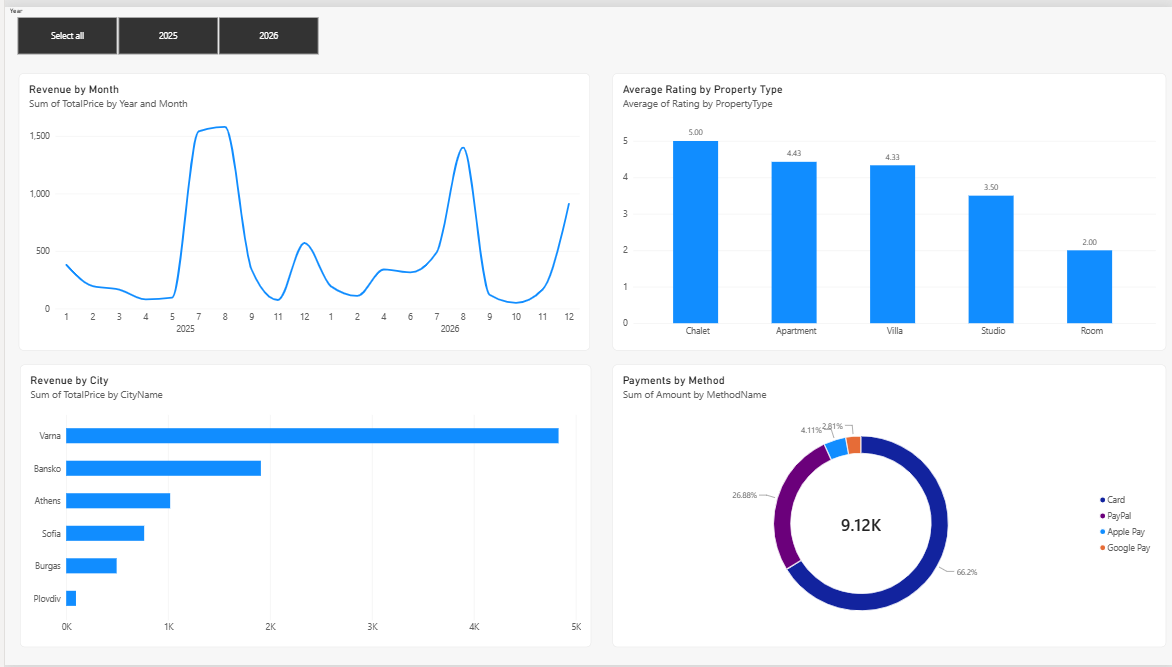

The dashboard page shown, as its layout file describes it:
{"tool":"powerbi","page":{"name":"Page 1","canvas":[1920,1080],"ordinal":0},"visuals":[{"type":"lineChart","title":"Revenue by Month","fields":{"Category":["DimDate.Year","DimDate.Month"],"Y":["Sum(FactBookings.TotalPrice)"]},"box":[22.6,108.7,937.6,455.5],"z":0},{"type":"clusteredBarChart","title":"Revenue by City","fields":{"Category":["DimCity.CityName"],"Y":["Sum(FactBookings.TotalPrice)"]},"box":[24.6,586.8,937.6,463.7],"z":1000},{"type":"clusteredColumnChart","title":"Average Rating by Property Type","fields":{"Category":["DimListing.PropertyType"],"Y":["Avg(FactReviews.Rating)"]},"box":[997.1,108.7,908.9,455.5],"z":2000},{"type":"donutChart","title":"Payments by Method","fields":{"Category":["DimPaymentMethod.MethodName"],"Y":["Sum(FactPayments.Amount)"]},"box":[997.1,586.8,908.9,463.7],"z":3000},{"type":"slicer","fields":{"Values":["DimDate.Year"]},"box":[0,0,533.4,79.3],"z":4000}]}

Visuals, with their boxes in screenshot pixels (x1, y1, x2, y2), scaled from the page's 1920x1080 canvas onto the 1172x667 screenshot:
"Revenue by Month" lineChart: 14:67:586:348
"Revenue by City" clusteredBarChart: 15:362:587:649
"Average Rating by Property Type" clusteredColumnChart: 609:67:1163:348
"Payments by Method" donutChart: 609:362:1163:649
slicer - DimDate.Year: 0:0:326:49
